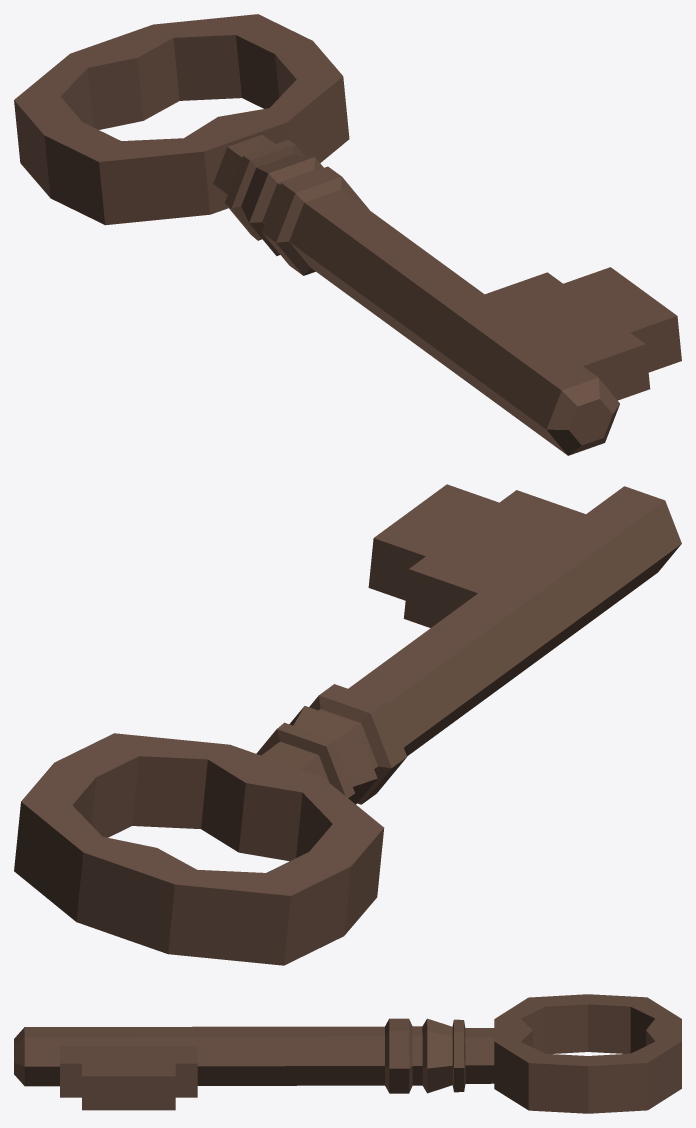
The model's file is Key1.glb.
3 views of the same model, one above another, from view 1: azimuth 30°, elevation 25°; view 2: azimuth 150°, elevation 25°; view 3: azimuth 270°, elevation 25° (orthographic). The views are drawn at different scales.
Visible parts, largest first — view 1: Key1; view 2: Key1; view 3: Key1.
Part boxes in pixels (bbox=[...]): Key1: bbox=[14, 14, 681, 455]; Key1: bbox=[14, 484, 681, 965]; Key1: bbox=[14, 994, 681, 1113].
Size of the model in its own units: 0.2921 by 0.0953 by 0.8666.
